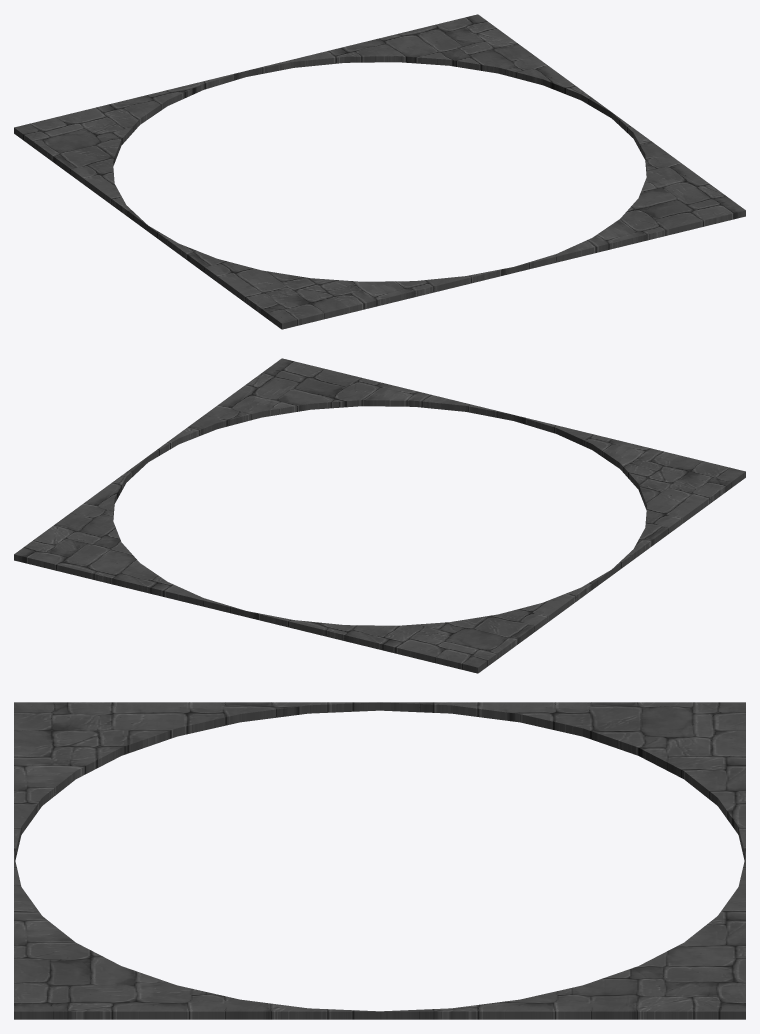
The model's file is Round_Elevator_Tunel_Floor.fbx.
3 renders of one model, top to bottom at view 1: azimuth 30°, elevation 25°; view 2: azimuth 150°, elevation 25°; view 3: azimuth 270°, elevation 25°, orthographic. The views are drawn at different scales.
Visible parts, largest first — view 1: Round_Elevator_Tunel_Floor; view 2: Round_Elevator_Tunel_Floor; view 3: Round_Elevator_Tunel_Floor.
Boxes of the visible parts, x1=… form: Round_Elevator_Tunel_Floor: x1=14, y1=14, x2=745, y2=329; Round_Elevator_Tunel_Floor: x1=14, y1=358, x2=745, y2=673; Round_Elevator_Tunel_Floor: x1=14, y1=702, x2=745, y2=1019.
Bounding box in the file's own units: 8.01 × 8.01 × 0.1.
